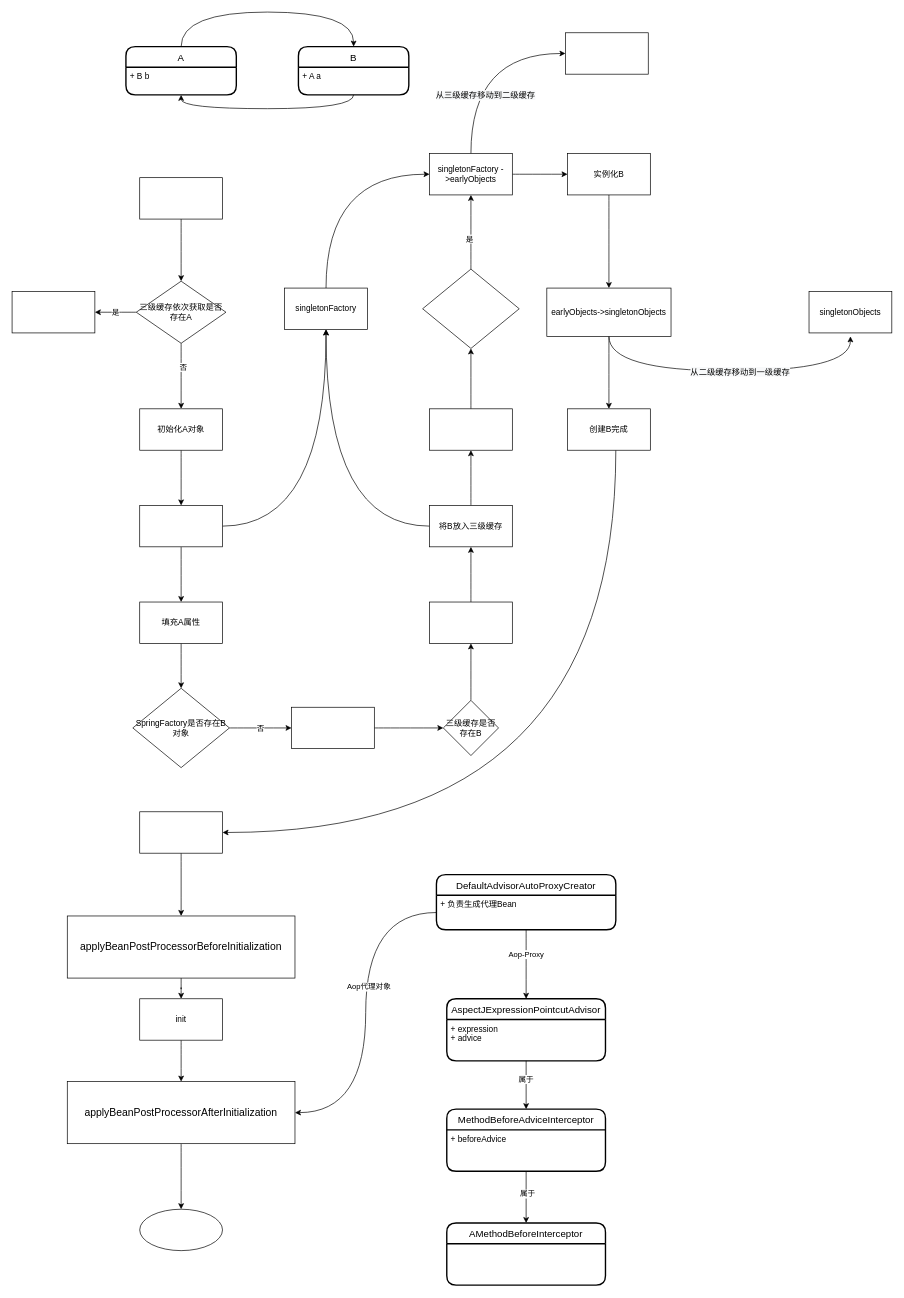
This 904x1298 diagram has some shape labels left out. The shapes that lost their labels are listed below. From the top down, each one's centre as x and y in pixels, then its label:
At point (606, 53): "earlyObjects".
At point (181, 198): "getBean(A)".
At point (53, 312): "实例化A 对象".
At point (470, 308): "SpringFactory是否存在A对象".
At point (470, 429): "填充B属性".
At point (181, 526): "将A放入三级缓存中".
At point (470, 622): "初始化B对象".
At point (332, 728): "创建B对象".
At point (181, 832): "实例化A开始".
At point (181, 1230): "此A已经变成Aop-A".
